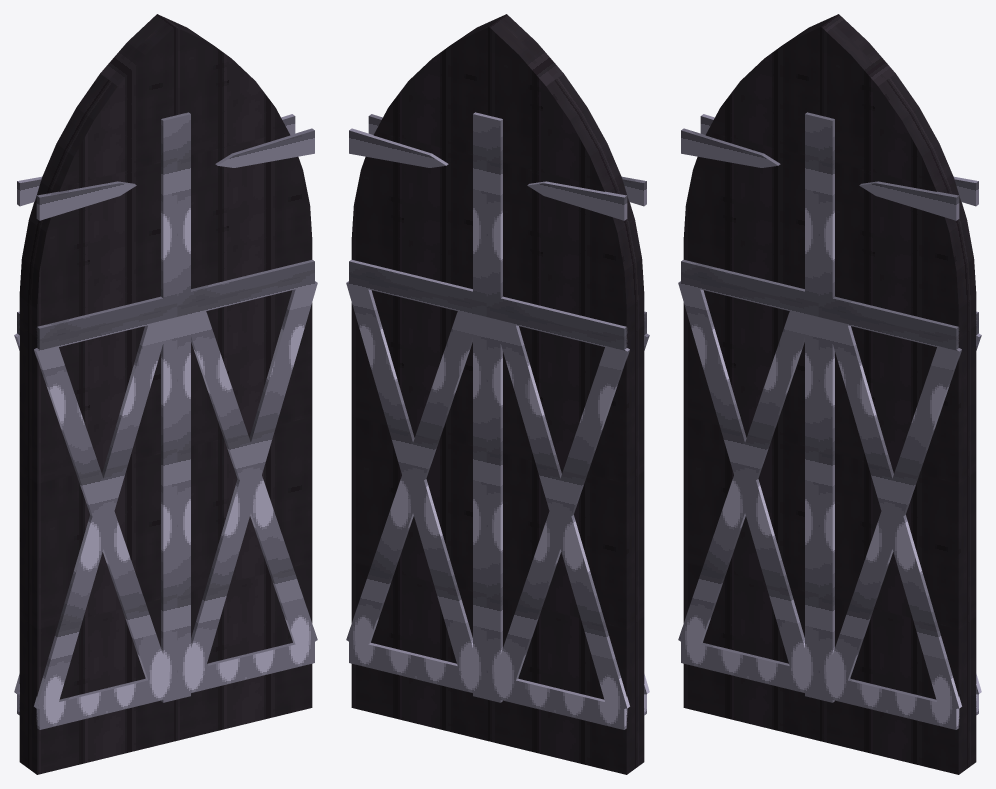
Rendered from bosstor_gross_c_fluegel.glb.
The picture shows the model from 3 angles, left to right: view 1: azimuth 30°, elevation 25°; view 2: azimuth 150°, elevation 25°; view 3: azimuth 330°, elevation 25°; orthographic projection.
Parts seen in each view (by area): view 1: leaf_b, leaf_a; view 2: leaf_b, leaf_a; view 3: leaf_a, leaf_b.
Boxes of the visible parts, x1,y1,x2,y2 form: leaf_b: (14, 14, 177, 774); leaf_a: (158, 14, 317, 741); leaf_b: (486, 14, 649, 774); leaf_a: (346, 14, 505, 741); leaf_a: (818, 14, 981, 774); leaf_b: (678, 14, 837, 741).
Bounding box in the file's own units: 2.02 × 4.91 × 0.28.
1 material, 1 textured.
